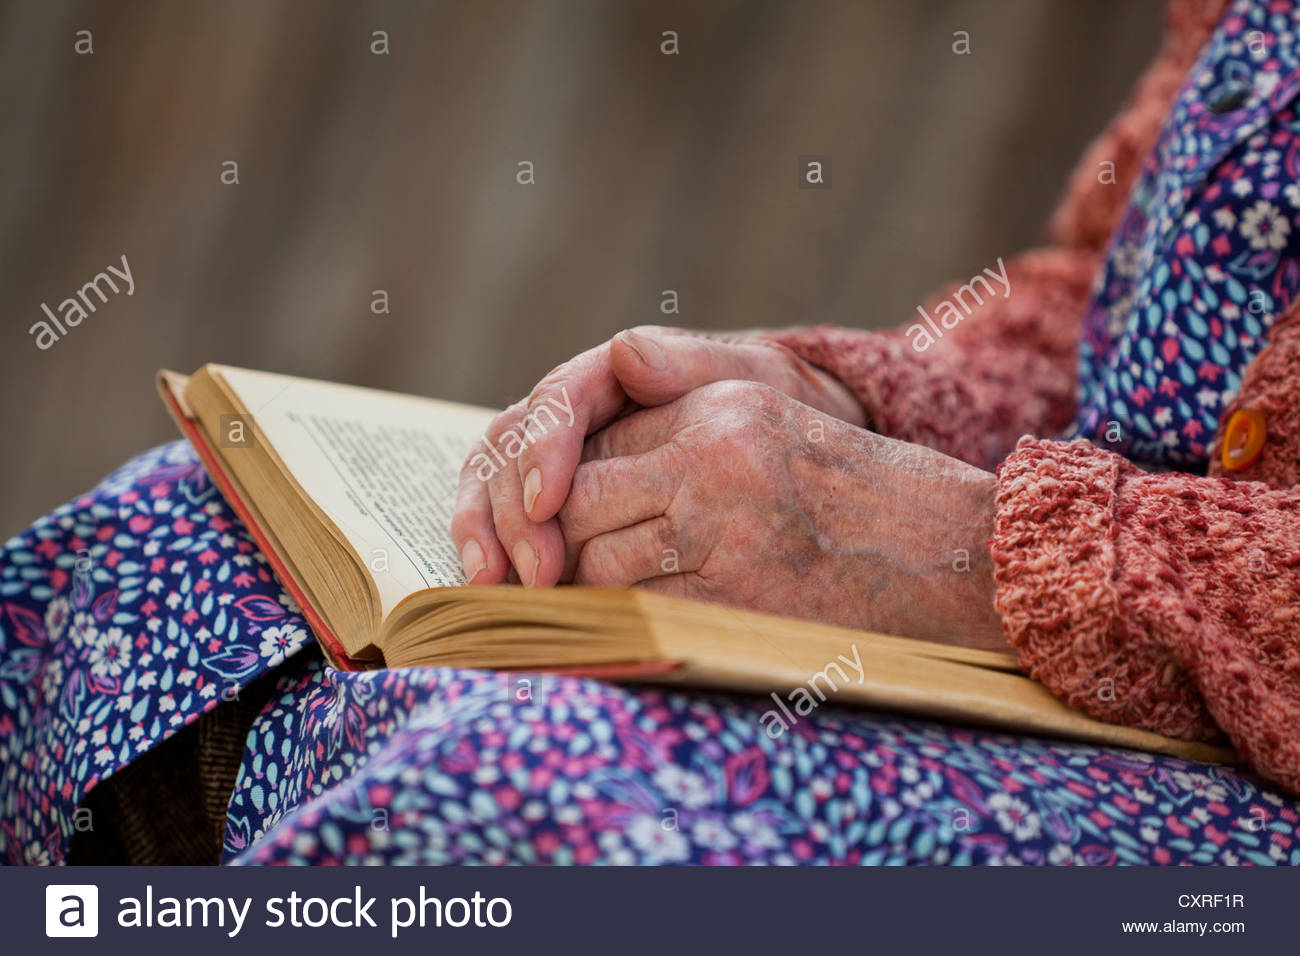Open Book: (158, 350, 1238, 777)
